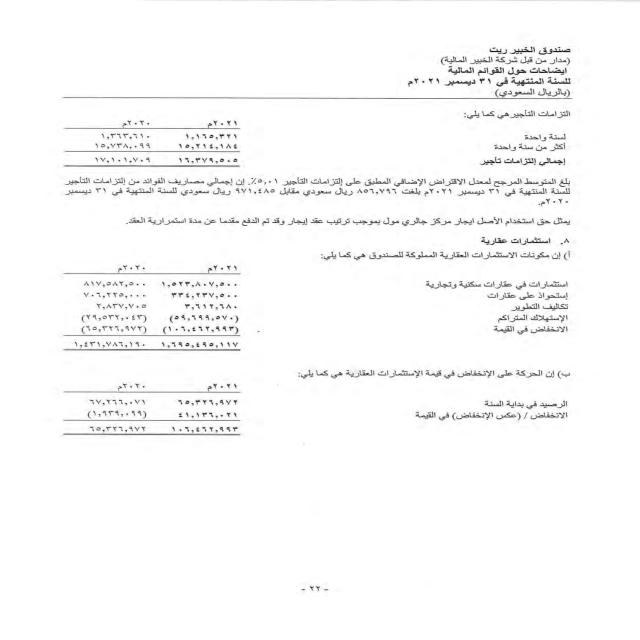notes: (445, 66, 571, 77)
table: (41, 257, 248, 354), (41, 379, 261, 447), (60, 115, 251, 172)
